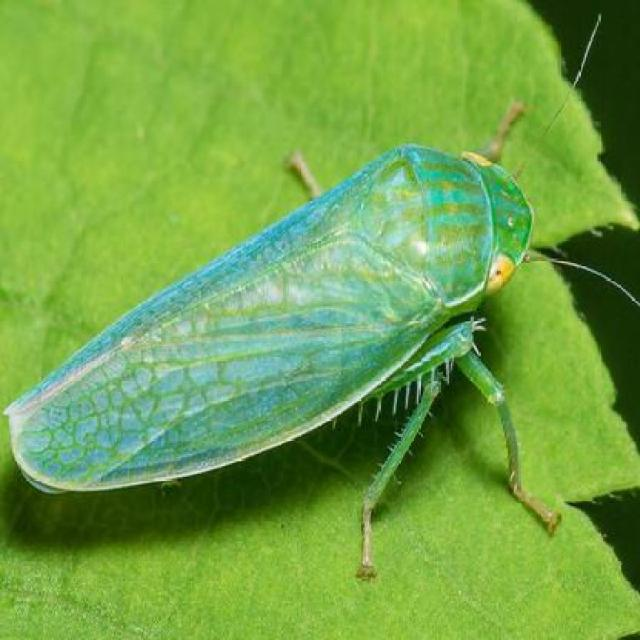green-leafhopper: (12, 140, 526, 529)
